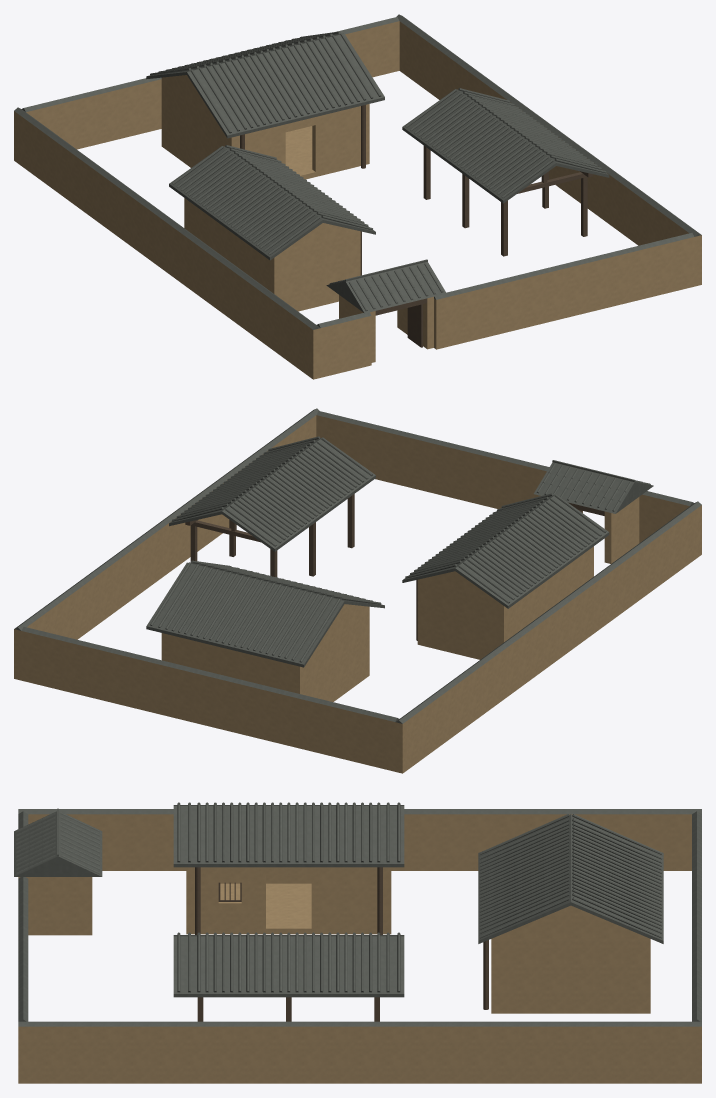
File: compact_work-LOD0.glb
3 views of the same model, one above another, from view 1: azimuth 30°, elevation 25°; view 2: azimuth 150°, elevation 25°; view 3: azimuth 270°, elevation 25° (orthographic). The views are drawn at different scales.
Parts seen in each view (by area): view 1: compact_work_earth, compact_work_tile, compact_work_timber; view 2: compact_work_earth, compact_work_tile, compact_work_timber; view 3: compact_work_earth, compact_work_tile, compact_work_timber.
Part boxes in pixels (<box>): compact_work_earth: <box>14,21,701,379</box>; compact_work_tile: <box>14,14,701,329</box>; compact_work_timber: <box>240,105,592,347</box>; compact_work_earth: <box>14,415,701,773</box>; compact_work_tile: <box>14,408,701,723</box>; compact_work_timber: <box>185,494,604,640</box>; compact_work_earth: <box>18,814,701,1083</box>; compact_work_tile: <box>14,802,701,1026</box>; compact_work_timber: <box>195,867,488,1021</box>.
Size of the model in its own units: 18 by 4.63 by 24.15.
Materials: 3 (3 with a texture image).
